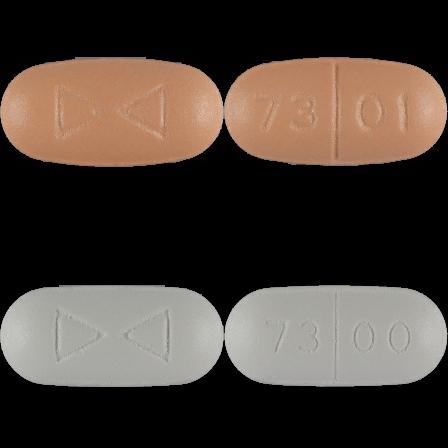0615-3588: (0, 0, 224, 224)
